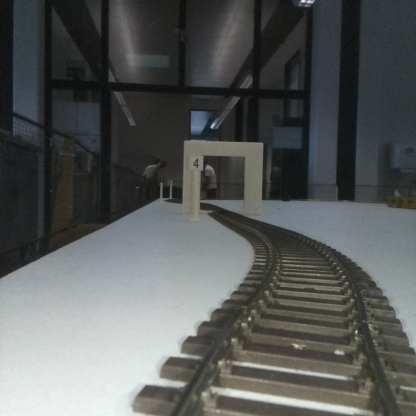white-info-4: (188, 154, 203, 218)
